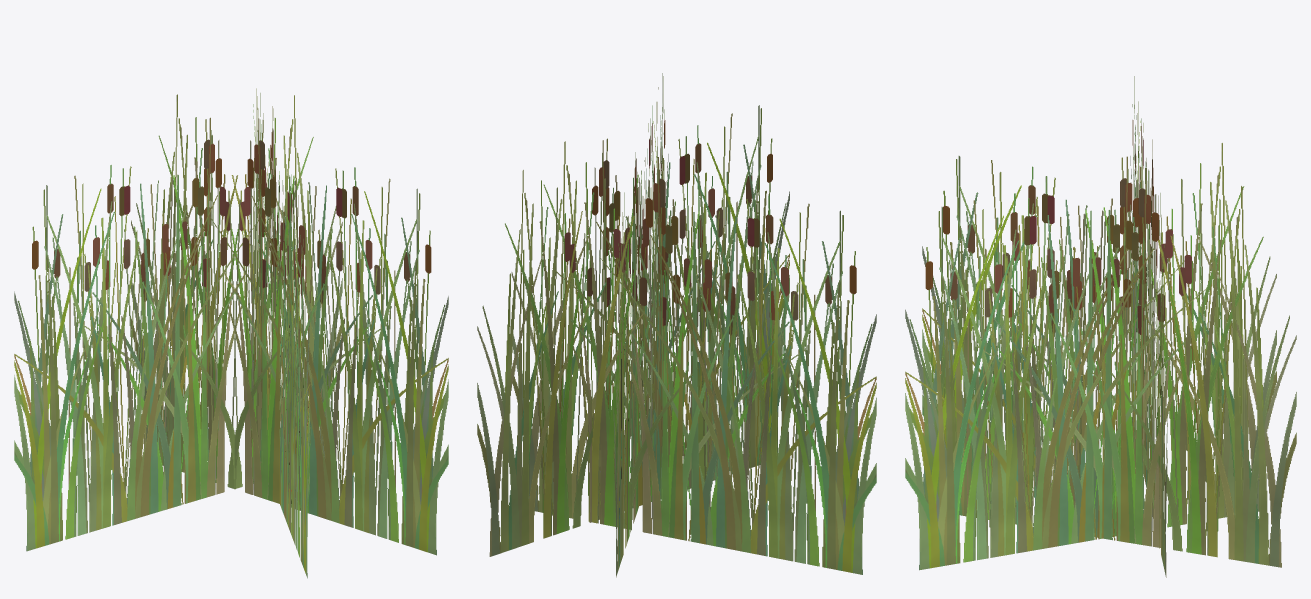
The model's file is Reed_2_LOD1.gltf.
The picture shows the model from 3 angles, left to right: view 1: azimuth 30°, elevation 25°; view 2: azimuth 150°, elevation 25°; view 3: azimuth 270°, elevation 25°; orthographic projection.
Parts seen in each view (by area): view 1: Reed_2_LOD1; view 2: Reed_2_LOD1; view 3: Reed_2_LOD1.
Boxes of the visible parts, x1,y1,x2,y2 form: Reed_2_LOD1: (14,88,448,578); Reed_2_LOD1: (477,73,876,577); Reed_2_LOD1: (905,76,1296,577).
Bounding box in the file's own units: 1.39 × 1.55 × 1.37.
Materials: 1 (1 with a texture image).
